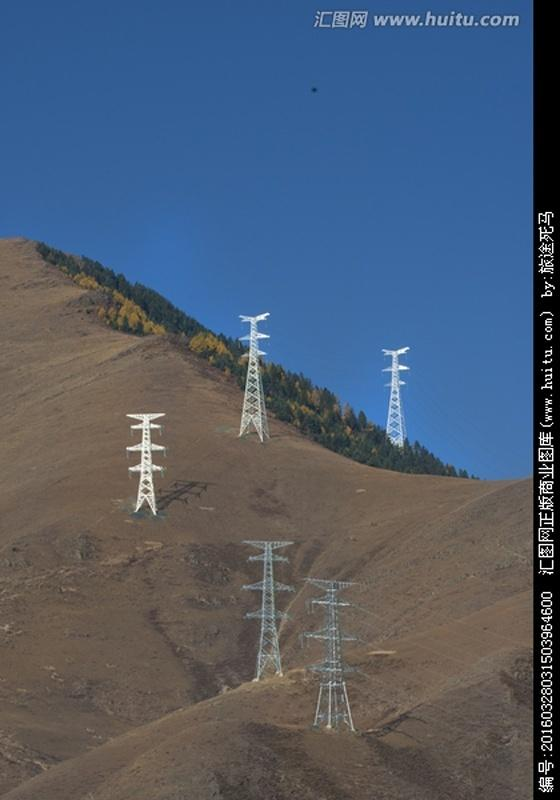power_tower: (308, 571, 371, 749), (226, 291, 281, 447), (230, 534, 289, 676), (118, 394, 174, 520), (372, 342, 415, 461)
